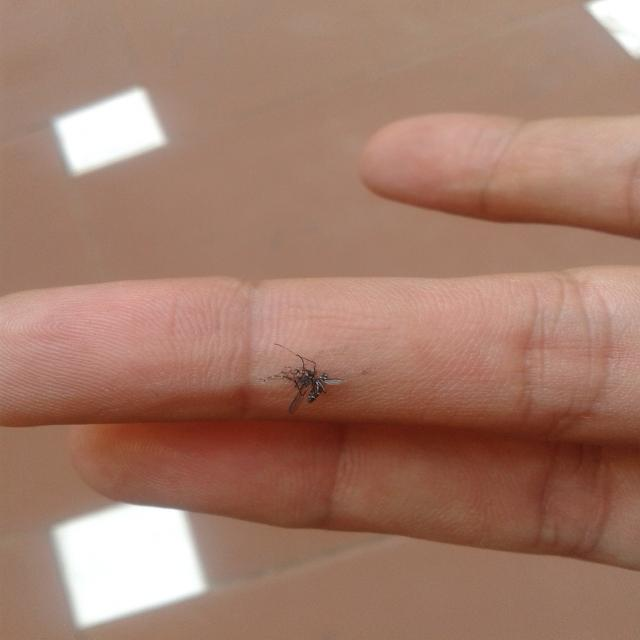albopictus: (251, 338, 345, 417)
